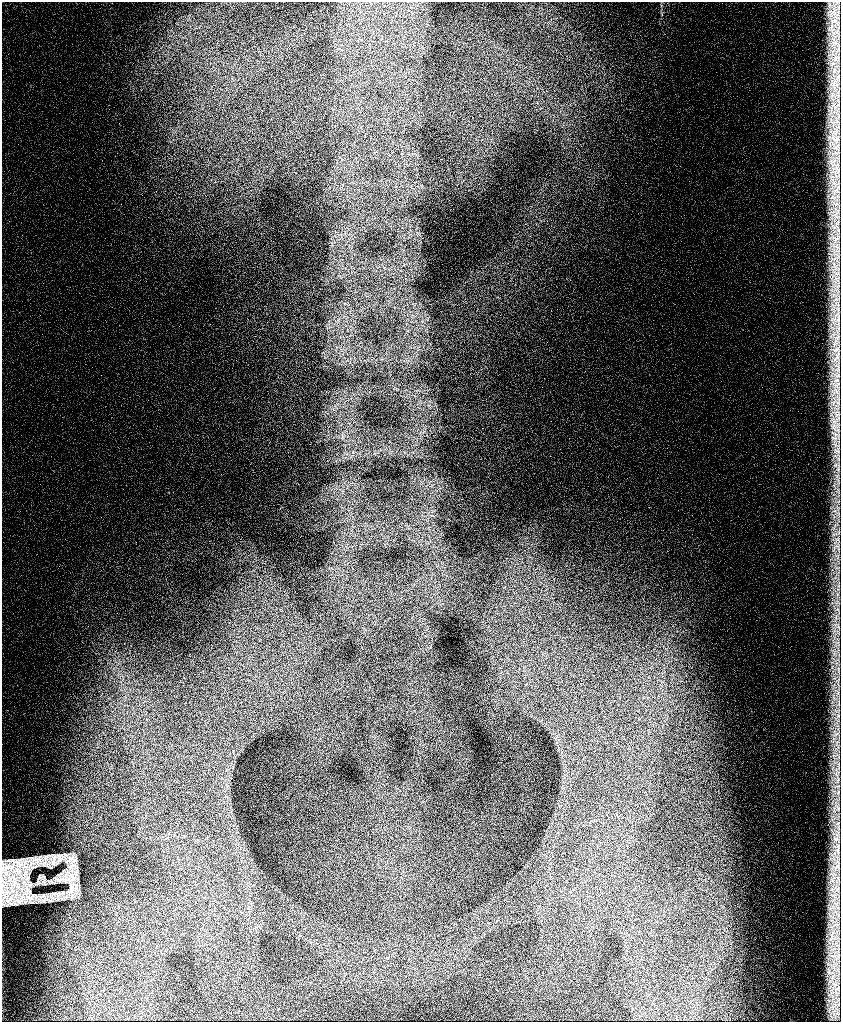lumbar scoliosis: (299, 88, 466, 624)
